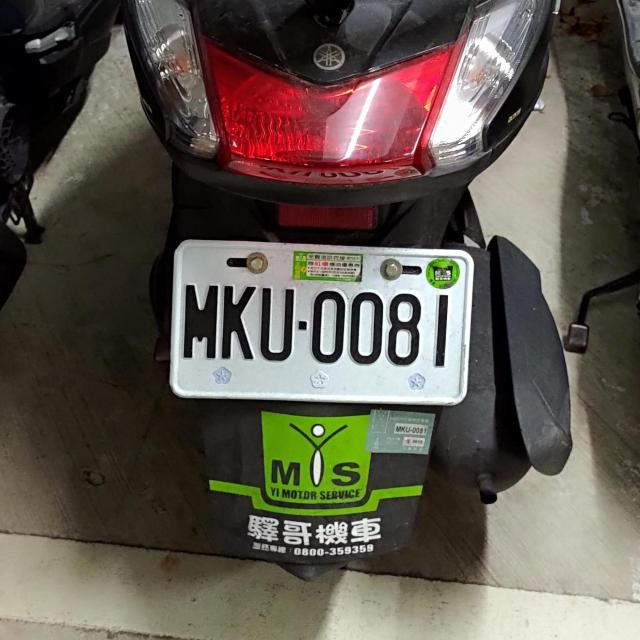W: (165, 237, 479, 407)
